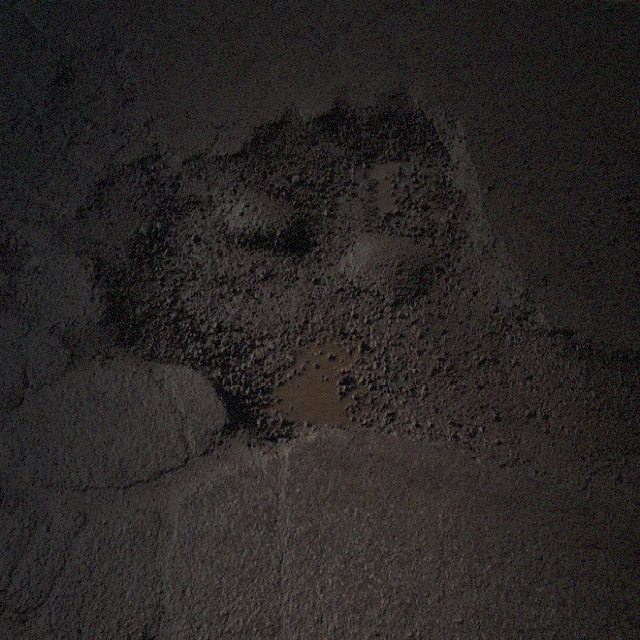pothole: (85, 87, 544, 487)
